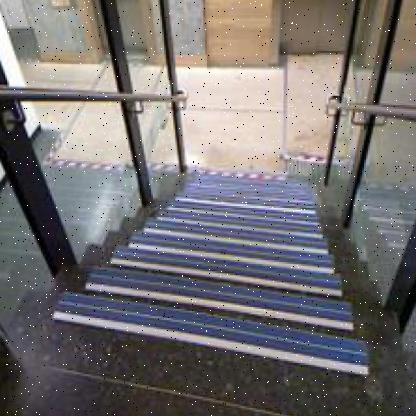stair_down: (48, 234, 364, 384)
